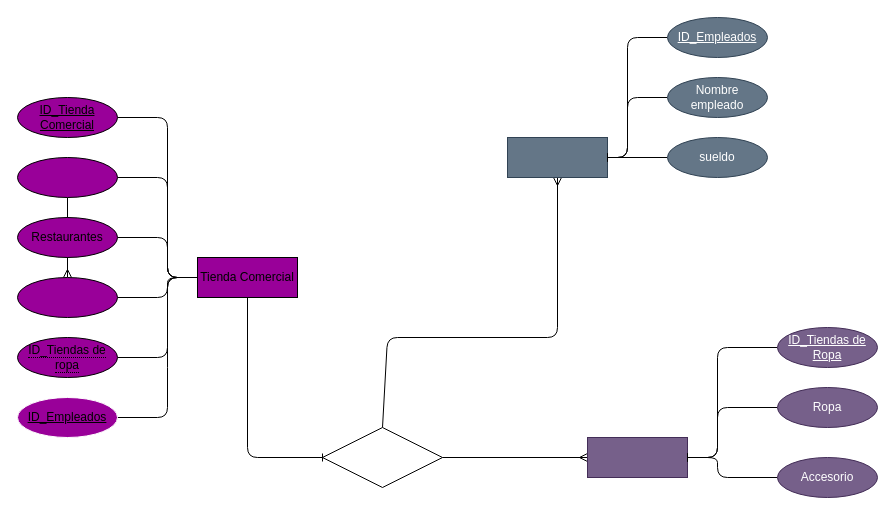
The diagram is 895 pixels wide and 515 high, and some of its shapes have lost their labels. Each missing label, with the box of its shape:
Baños: (16, 156, 118, 198)
Empleados: (506, 136, 608, 178)
Personal: (16, 276, 118, 318)
Tiendas de Ropa: (586, 436, 688, 478)
Tiene: (322, 426, 442, 488)
